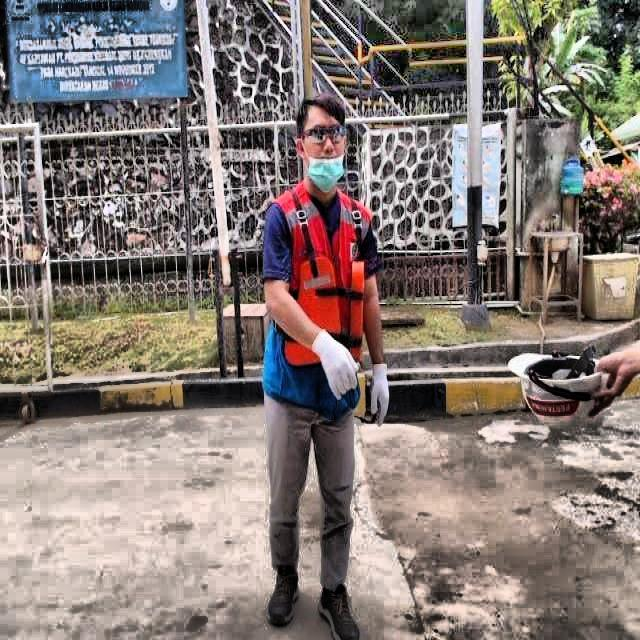safety_jacket: (264, 177, 370, 410)
